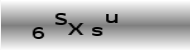6: (31, 26, 44, 39)
S: (53, 12, 67, 25)
X: (66, 22, 83, 35)
s: (90, 26, 103, 36)
u: (104, 12, 118, 24)
